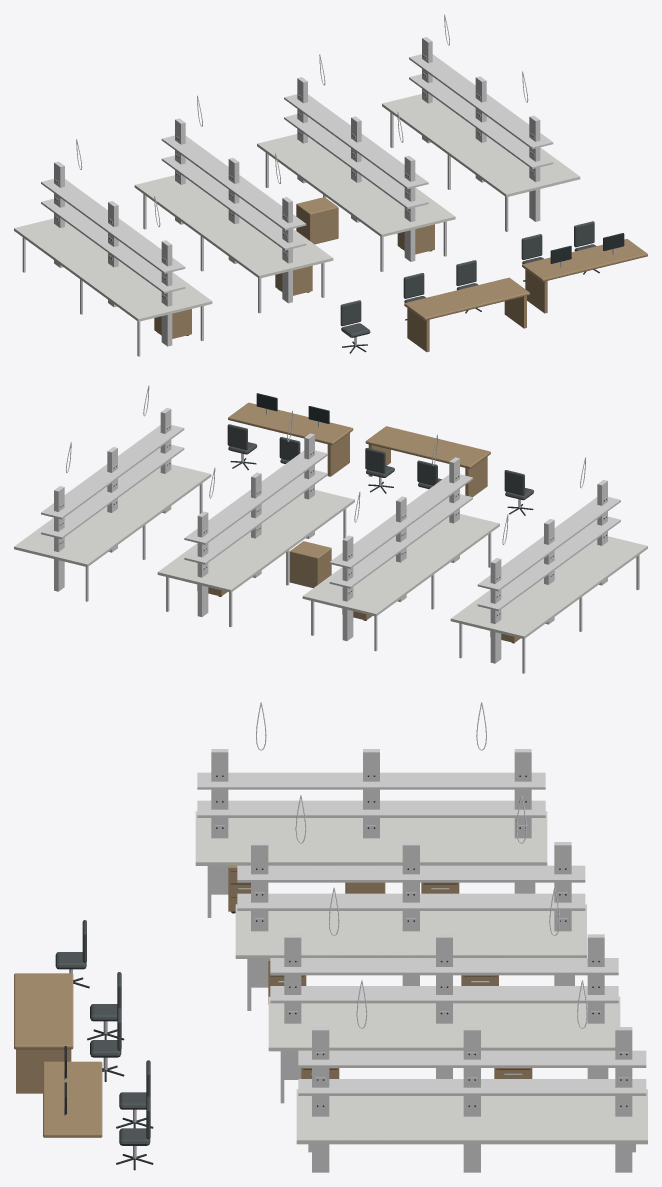
Rendered from SM_L2_Furniture_Solid_de5ceb1cbd_0.fbx.
3 renders of one model, top to bottom at view 1: azimuth 30°, elevation 25°; view 2: azimuth 150°, elevation 25°; view 3: azimuth 270°, elevation 25°, orthographic. The views are drawn at different scales.
Visible parts, largest first — view 1: SM_L2_Furniture_Solid_de5ceb1cbd_0; view 2: SM_L2_Furniture_Solid_de5ceb1cbd_0; view 3: SM_L2_Furniture_Solid_de5ceb1cbd_0.
Boxes of the visible parts, left/top/right/bottom form: SM_L2_Furniture_Solid_de5ceb1cbd_0: left=14, top=14, right=647, bottom=356; SM_L2_Furniture_Solid_de5ceb1cbd_0: left=14, top=385, right=647, bottom=673; SM_L2_Furniture_Solid_de5ceb1cbd_0: left=14, top=702, right=647, bottom=1172.
Bounding box in the file's own units: 11.3 × 9.2 × 3.12.
